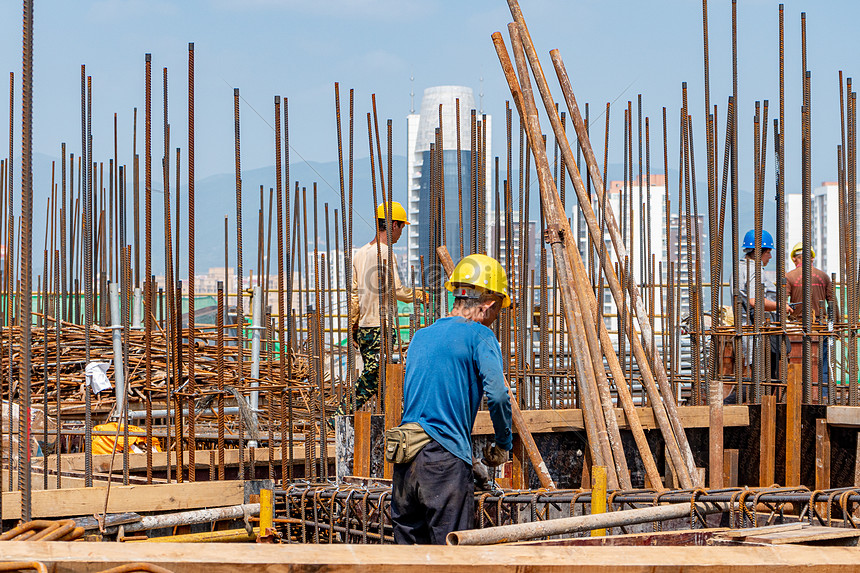With Helmet: (444, 249, 512, 325), (372, 196, 411, 250)
